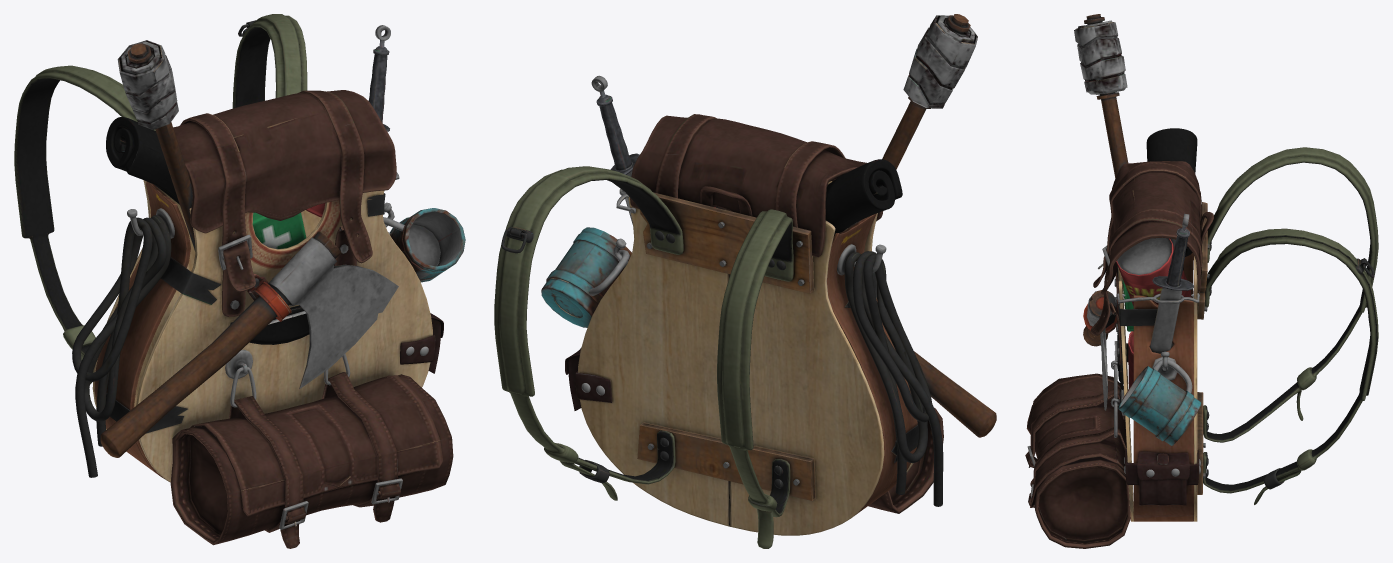
The model's file is backpack.glb.
The picture shows the model from 3 angles, left to right: view 1: azimuth 30°, elevation 25°; view 2: azimuth 150°, elevation 25°; view 3: azimuth 270°, elevation 25°; orthographic projection. The views are drawn at different scales.
Parts seen in each view (by area): view 1: Cylinder.030, Plane.008, Plane.011, Cube.050, Plane.014, Cube.037, BezierCurve.003, Cylinder.031, Cylinder.033, Plane.009, Cube.051, Cylinder.049 (+13 smaller); view 2: Plane.010, Cube.051, Plane.011, Cube.050, BezierCurve.003, Cube.030, Plane.009, Cube.032, Cylinder.049, Cylinder.034, Cube.047, Plane.014 (+5 smaller); view 3: Cylinder.030, Cube.050, Cube.051, Plane.009, Plane.011, Cylinder.049, Plane.014, Cylinder.034, Cylinder.035, Cylinder.032, Cylinder.031, Cube.053 (+10 smaller).
Part boxes in pixels (box(x1,y1,x2,y2)): Cylinder.030: box(170, 374, 453, 545); Plane.008: box(136, 190, 432, 482); Plane.011: box(173, 90, 396, 233); Cube.050: box(14, 65, 155, 384); Plane.014: box(180, 90, 372, 316); Cube.037: box(268, 237, 398, 388); BezierCurve.003: box(72, 215, 171, 477); Cylinder.031: box(228, 372, 400, 548); Cylinder.033: box(100, 231, 341, 457); Plane.009: box(94, 181, 190, 479); Cube.051: box(232, 14, 307, 108); Cylinder.049: box(383, 208, 465, 282); Plane.010: box(578, 196, 884, 535); Cube.051: box(494, 166, 683, 500); Plane.011: box(630, 115, 883, 257); Cube.050: box(717, 209, 793, 548); BezierCurve.003: box(844, 251, 943, 506); Cube.030: box(639, 192, 814, 293); Plane.009: box(827, 213, 917, 515); Cube.032: box(637, 422, 815, 500); Cylinder.049: box(541, 227, 631, 327); Cylinder.034: box(903, 15, 977, 108); Cube.047: box(825, 159, 902, 235); Plane.014: box(655, 114, 845, 227); Cylinder.030: box(1026, 373, 1130, 548); Cube.050: box(1203, 147, 1378, 442); Cube.051: box(1203, 228, 1378, 504); Plane.009: box(1133, 252, 1193, 521); Plane.011: box(1101, 161, 1200, 294); Cylinder.049: box(1118, 359, 1201, 445); Plane.014: box(1090, 161, 1202, 364); Cylinder.034: box(1074, 20, 1127, 94); Cylinder.035: box(1116, 237, 1190, 305); Cylinder.032: box(1150, 213, 1194, 353); Cylinder.031: box(1025, 388, 1126, 507); Cube.053: box(1125, 449, 1199, 505).
Size of the model in its own units: 416 by 515 by 386.
1 material, 1 textured.
